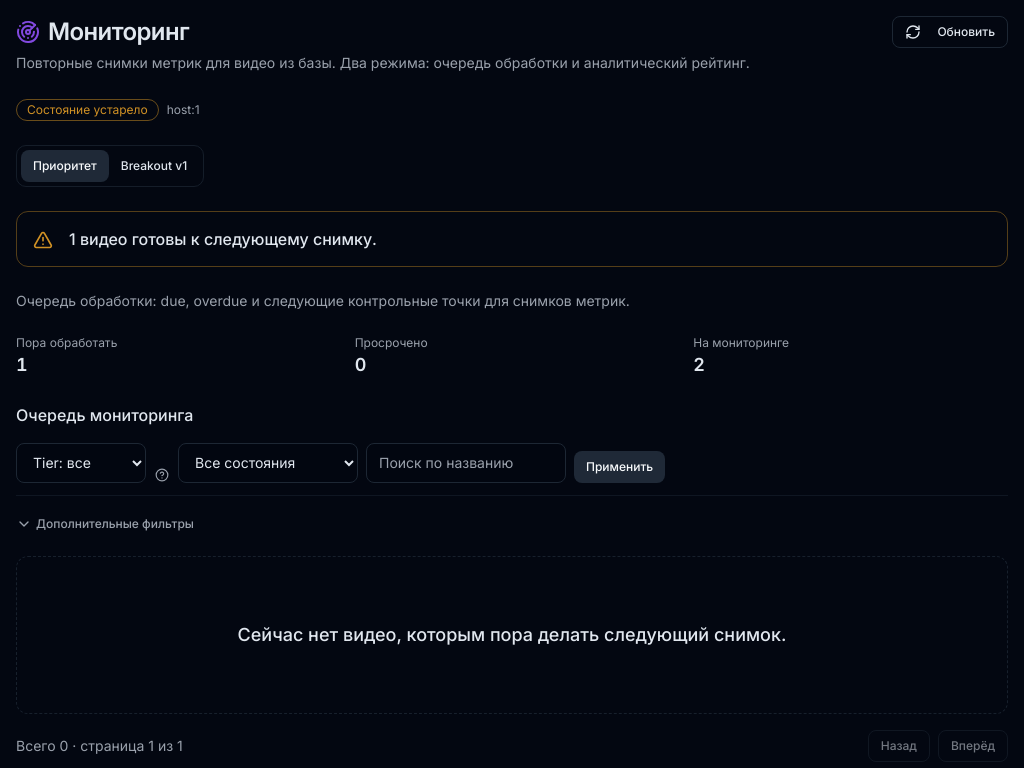
Test: MonitoringDashboard › breakout empty context
Click the tab with test id "monitoring-mode-breakout".
click(154, 166)  # box [109, 150, 199, 182]
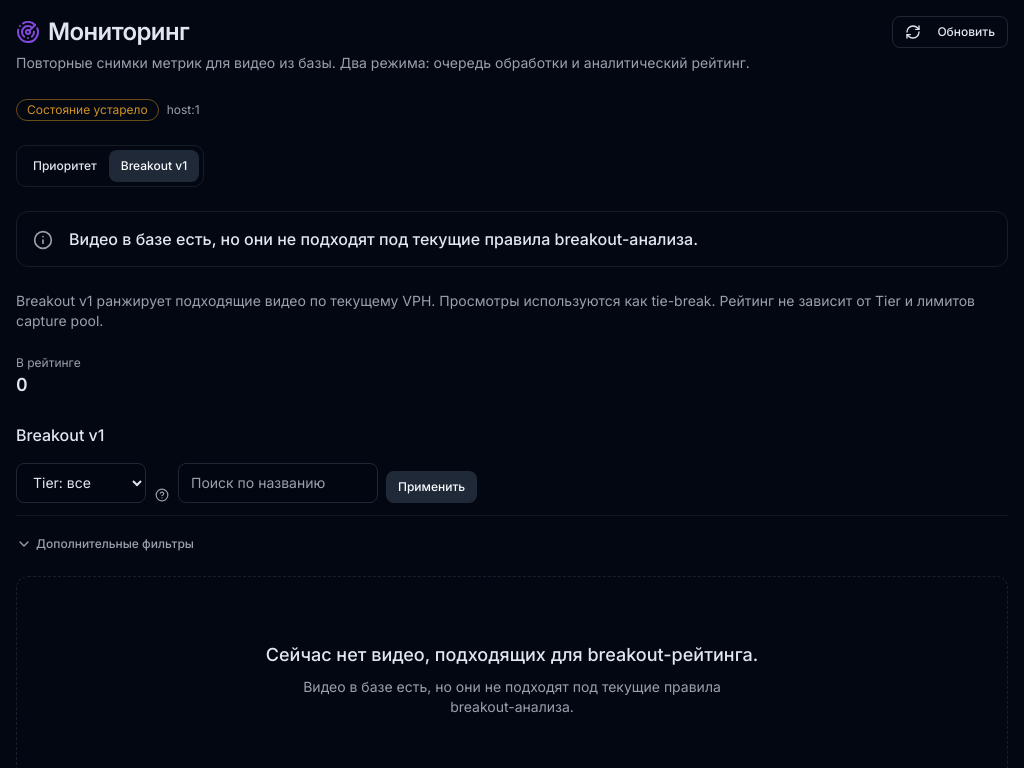
Expected: the heading "Сейчас нет видео, подходящих для breakout-рейтинга." is shown, [266, 641, 758, 669]
